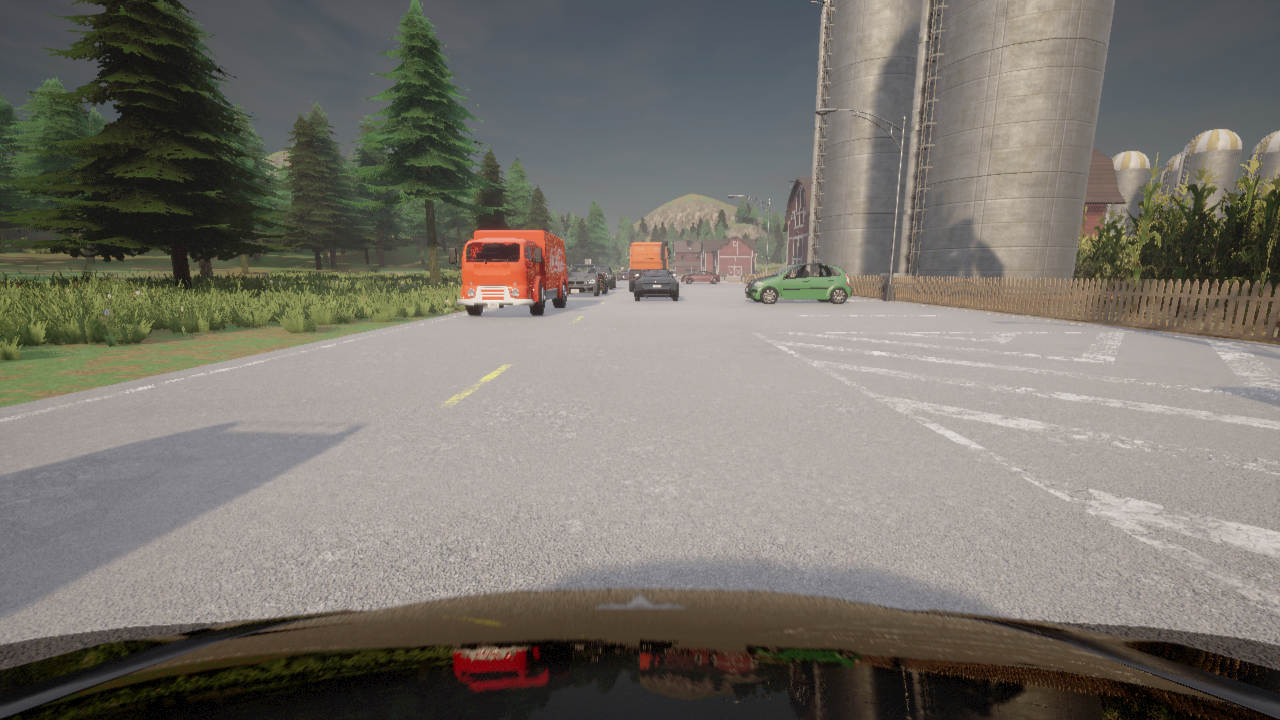cyclist: (0, 588, 1279, 719), (448, 230, 569, 315), (745, 263, 852, 303), (626, 241, 672, 291), (633, 269, 678, 300), (567, 264, 607, 296), (681, 271, 719, 283), (600, 266, 615, 289), (617, 271, 628, 280)
